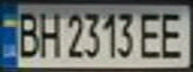1: (100, 8, 121, 59)
2: (63, 8, 84, 60)
3: (115, 8, 139, 59), (81, 8, 103, 59)
B: (12, 7, 42, 58)
E: (154, 8, 190, 60), (136, 8, 166, 60)
H: (36, 7, 63, 60)
